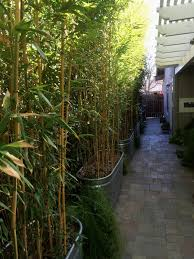bamboo: (1, 1, 82, 235), (87, 1, 117, 176), (123, 1, 146, 139)
